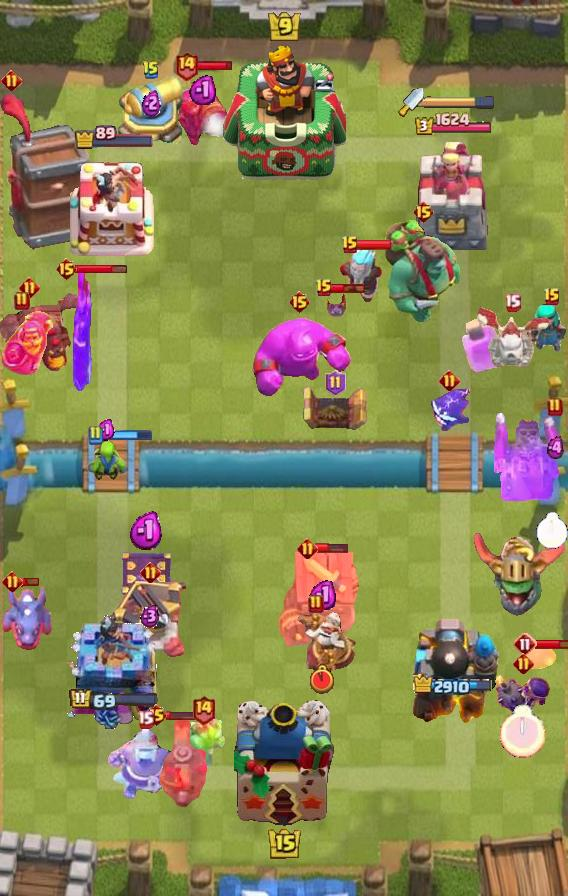archer-evolution: (0, 289, 86, 375)
bar: (412, 140, 494, 256)
barbarian-barrel: (324, 289, 350, 319)
clone: (245, 317, 353, 399)
dark-prince: (141, 717, 207, 807)
dart-goblin: (1, 92, 91, 250)
electro-spirit: (129, 511, 165, 551), (189, 73, 216, 105), (308, 578, 335, 610), (143, 87, 162, 116), (140, 604, 160, 628), (96, 419, 116, 441), (547, 436, 564, 460)
elixir: (500, 705, 546, 758), (536, 511, 568, 549), (310, 664, 334, 694)
elixir-collector: (107, 726, 183, 802), (293, 608, 359, 678)
elixir-golem-big: (70, 267, 96, 393)
emote: (101, 429, 153, 441), (75, 264, 128, 275), (357, 239, 393, 251), (330, 282, 366, 294), (315, 542, 349, 554), (198, 61, 235, 72), (167, 710, 202, 721), (536, 638, 568, 650), (20, 577, 40, 588)
firecracker-evolution: (0, 309, 52, 374)
goblin-ball: (494, 673, 552, 717)
goblin-brawler: (299, 385, 371, 433)
graveyard: (0, 580, 54, 652)
ice-spirit-evolution-symbol: (120, 548, 174, 598)
king-tower: (223, 43, 345, 181), (234, 700, 334, 826)
king-tower-bar: (424, 95, 496, 109)
knight-evolution: (462, 318, 506, 375)
lava-hound: (383, 213, 463, 325)
lava-pup: (109, 581, 191, 661)
mega-minion: (173, 68, 231, 148)
miner: (521, 641, 557, 671)
mini-pekka: (473, 303, 551, 371)
mortar: (331, 241, 393, 307)
night-witch: (472, 530, 568, 618)
queen-tower: (65, 614, 162, 730), (70, 154, 158, 256)
royal-recruit: (115, 68, 187, 150)
selected: (69, 688, 159, 712), (73, 126, 154, 151), (414, 112, 494, 137), (414, 674, 495, 698)
skeleton-king-bar: (494, 413, 568, 501)
sparky: (279, 551, 365, 649)
spear-goblin: (428, 389, 470, 435)
text: (174, 51, 199, 82), (192, 695, 217, 726), (288, 290, 312, 314), (513, 632, 537, 656), (413, 200, 436, 224), (54, 257, 77, 281), (145, 703, 168, 727), (325, 370, 346, 396), (439, 369, 460, 391), (297, 537, 318, 559), (140, 561, 161, 583), (2, 70, 23, 91), (20, 278, 41, 299), (2, 572, 23, 593), (513, 653, 534, 674), (142, 60, 160, 80), (341, 235, 359, 255), (315, 278, 333, 298), (543, 287, 561, 307), (503, 293, 520, 312), (137, 710, 154, 729), (14, 291, 30, 311), (547, 397, 563, 417), (87, 425, 103, 445), (308, 594, 324, 614)
tower-bar: (406, 611, 500, 731)
valkyrie-evolution: (177, 718, 229, 770)
witch: (520, 303, 568, 353)
zap: (86, 437, 126, 481)
